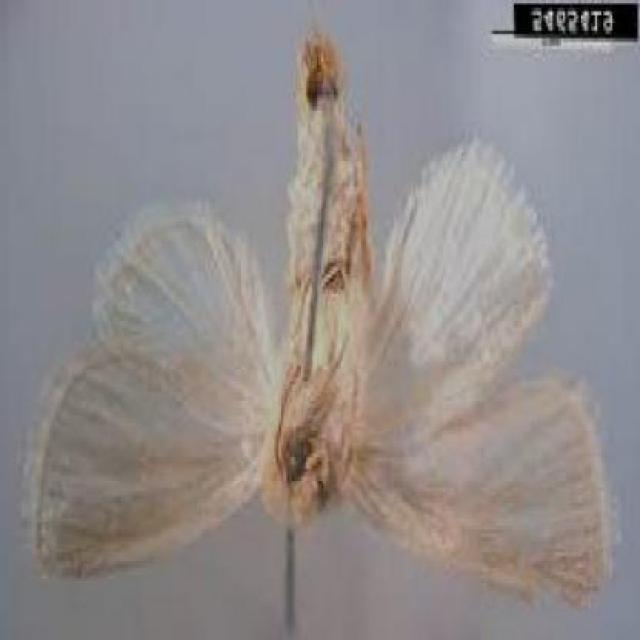stem-borer: (28, 53, 618, 616)
